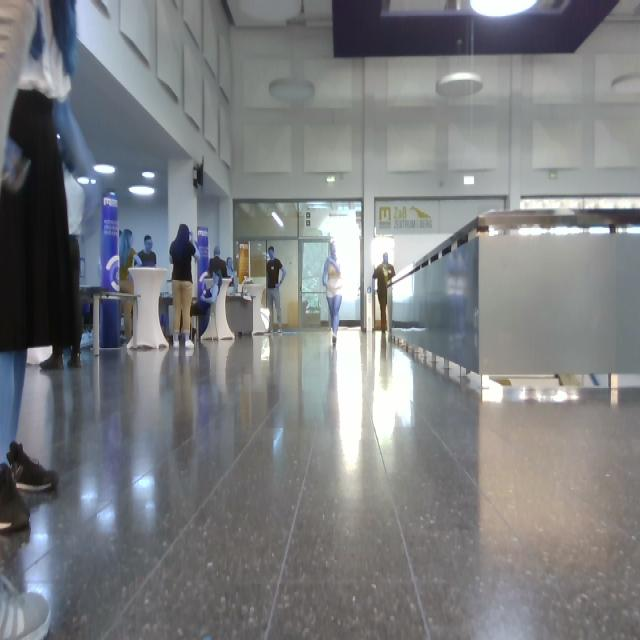desk: (226, 294, 254, 336)
light bulb: (437, 40, 483, 98), (437, 72, 482, 98), (470, 1, 538, 17), (270, 80, 314, 104), (129, 186, 155, 197), (94, 165, 116, 174), (273, 212, 284, 228)
person: (1, 1, 76, 532), (62, 142, 85, 368), (170, 225, 196, 346), (192, 257, 226, 340), (323, 242, 342, 342), (373, 254, 395, 333), (267, 248, 286, 332), (119, 230, 137, 294), (210, 248, 228, 280), (137, 236, 156, 266), (41, 346, 63, 370), (122, 301, 132, 342)
staircase: (389, 210, 640, 401)
table: (129, 268, 169, 350), (203, 278, 234, 340)
tiled floor: (1, 332, 640, 640)
